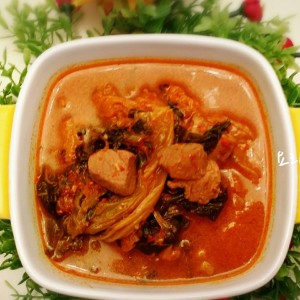gimchijjigae: (28, 51, 275, 285)
